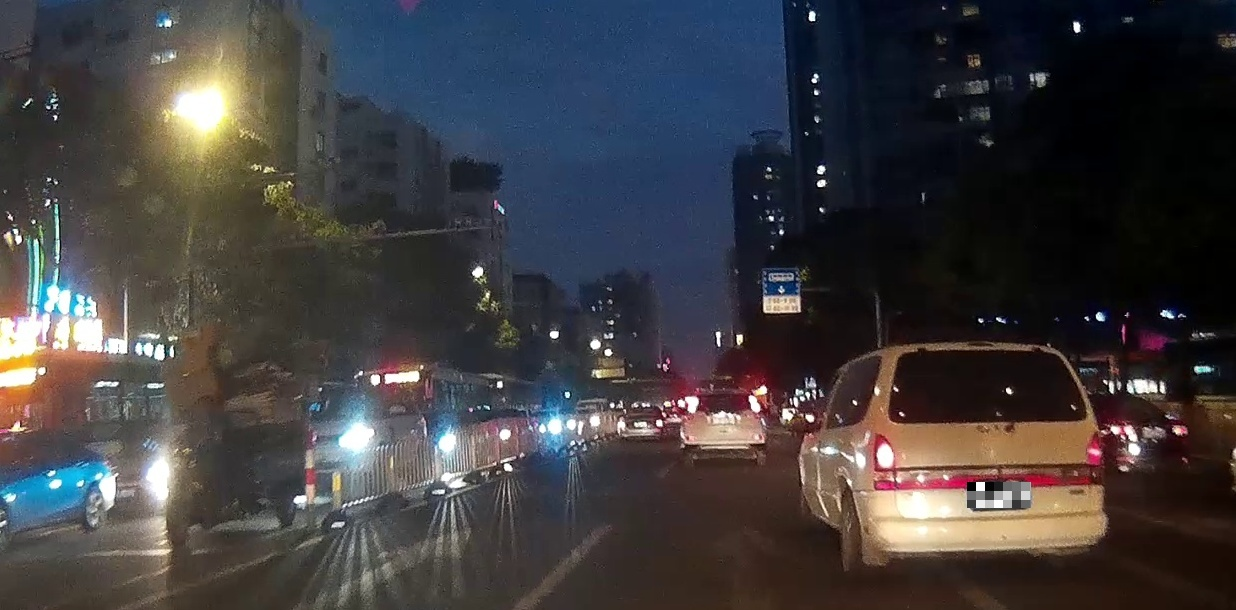L_light: (873, 432, 896, 489), (685, 396, 699, 419)
R_light: (1085, 431, 1103, 486), (748, 395, 761, 418)
T_light: (970, 349, 1003, 359), (715, 394, 730, 399)
night-left: (873, 342, 1107, 573)
night-no: (679, 389, 767, 465)
plate_1: (967, 482, 1031, 508)
